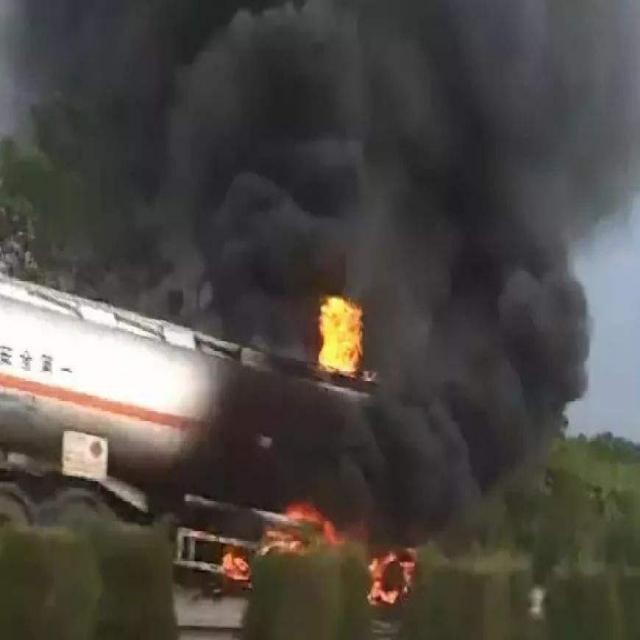fire: (218, 493, 416, 611), (314, 287, 369, 391)
